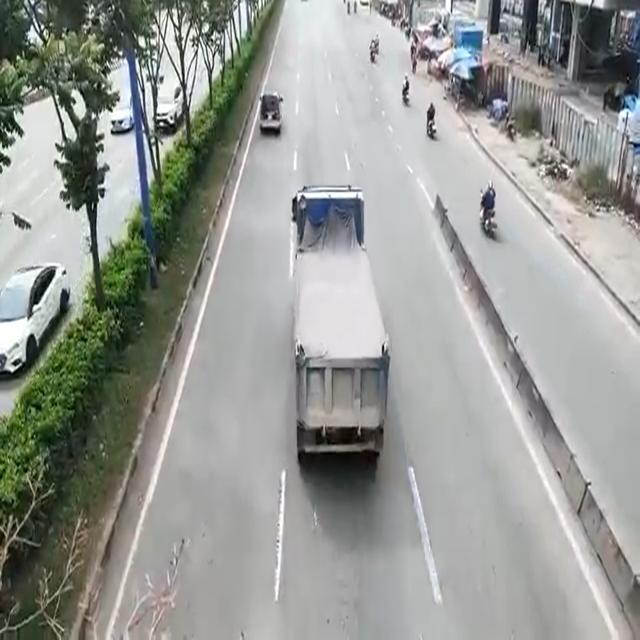car: (292, 188, 379, 455), (260, 87, 280, 136)
motor: (482, 196, 497, 241)
